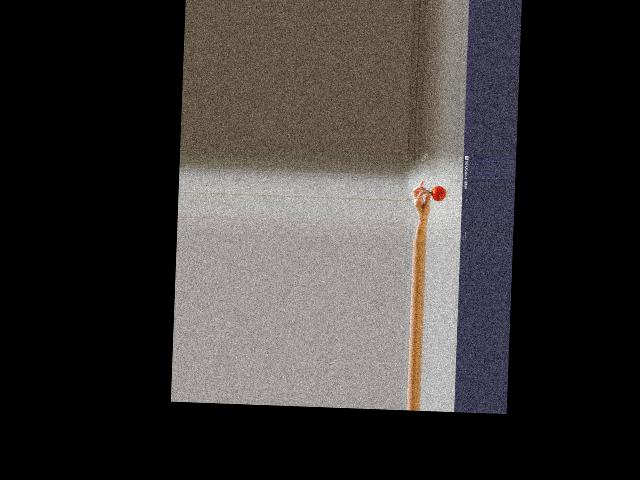tomato: (432, 186, 447, 202)
